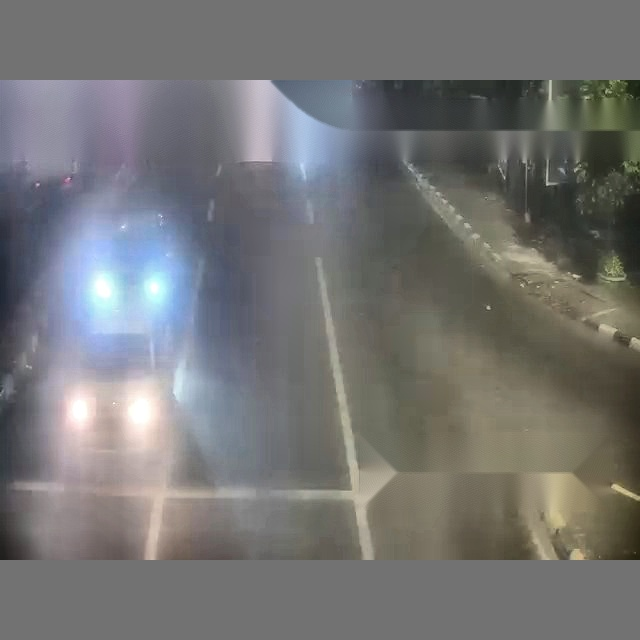Truk: (204, 81, 640, 556)
